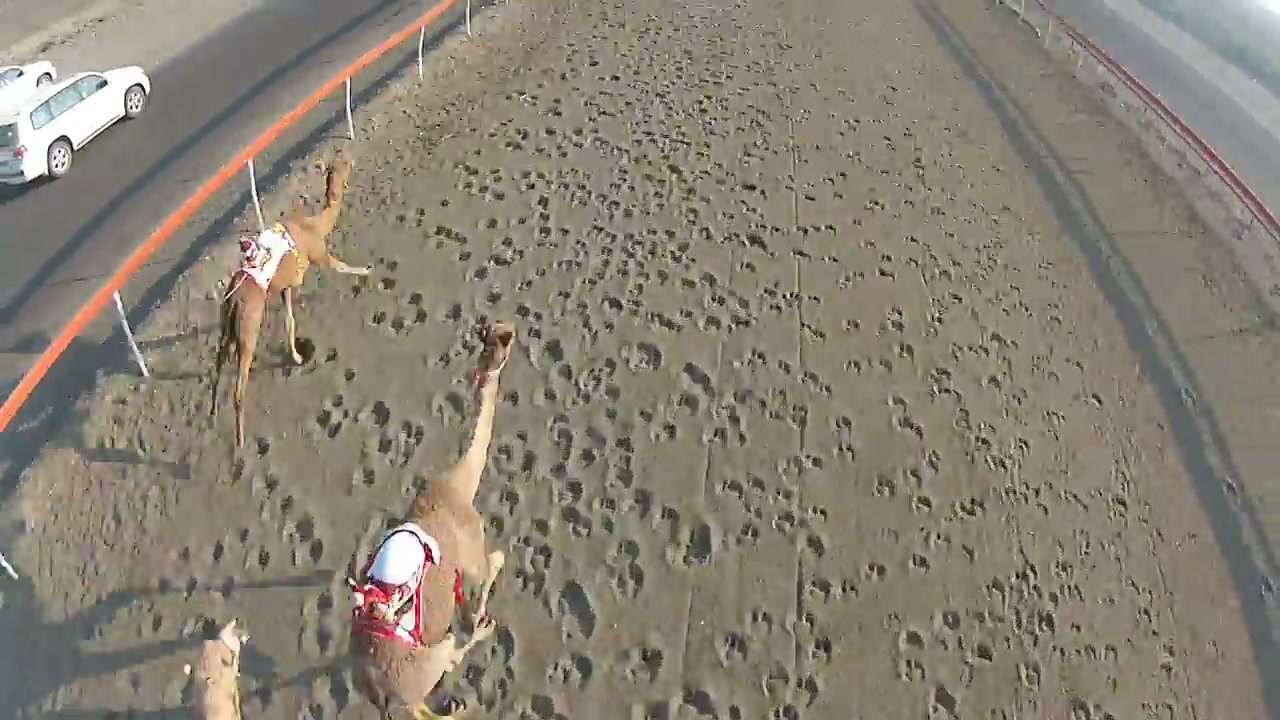animal_foot_print: (5, 0, 1264, 719), (244, 469, 325, 572), (431, 626, 519, 715), (353, 400, 433, 483), (368, 258, 432, 336), (504, 521, 555, 605), (297, 585, 348, 658), (365, 419, 426, 468), (279, 336, 340, 379), (369, 292, 430, 335), (602, 539, 644, 600), (555, 580, 598, 639), (665, 522, 720, 567), (491, 431, 539, 477), (286, 512, 325, 567), (350, 258, 399, 298), (616, 645, 664, 684), (313, 393, 351, 440), (548, 653, 594, 689), (430, 389, 468, 426), (356, 399, 392, 430), (351, 463, 377, 488)
